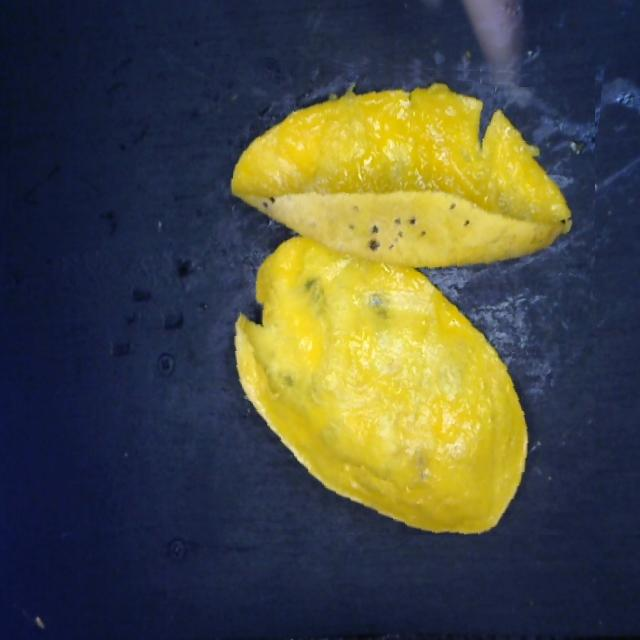biodegradable: (199, 61, 595, 535)
